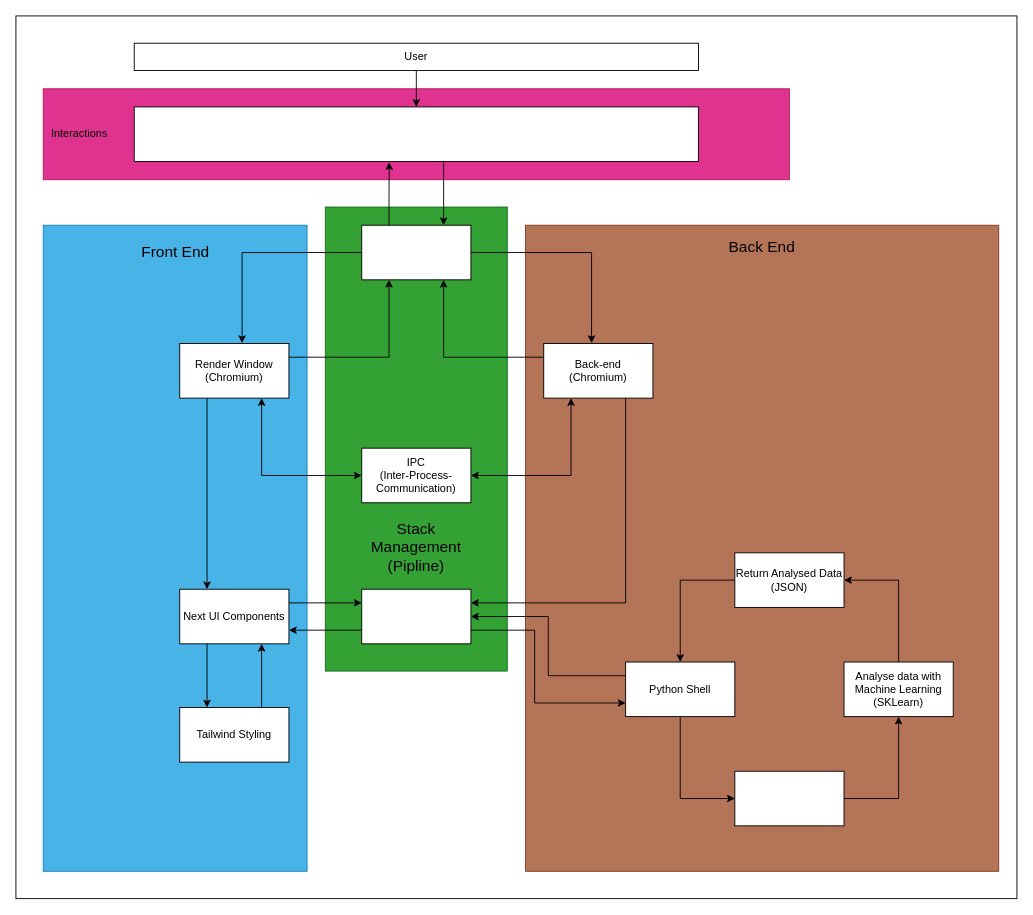
Some shapes in this 1033 by 915 pixel diagram are drawn without their labels. The shapes that lost their labels are listed below. From the top down, each one's centre as x and y in pixels, then its label:
the point at 415,134: Electron (GUI)
the point at 416,252: Main Process (Node.js)
the point at 416,616: React Application
the point at 789,798: Process CSV (Pandas)
